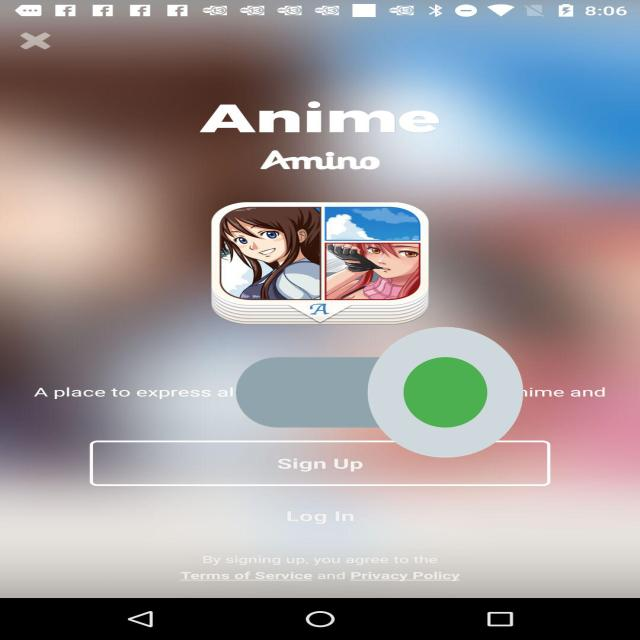social proof: (236, 272, 523, 513)
